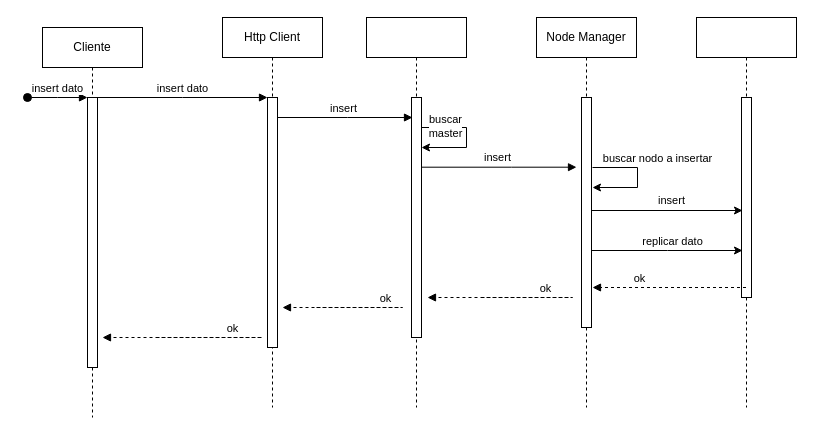
This 814x435 diagram has some shape labels left out. Each missing label, with the box of its shape:
Dato: (696, 16, 796, 408)
Orquestador: (366, 16, 466, 408)
